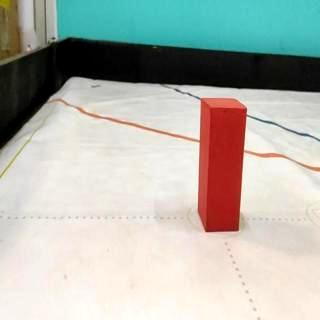redbox: (198, 97, 248, 234)
